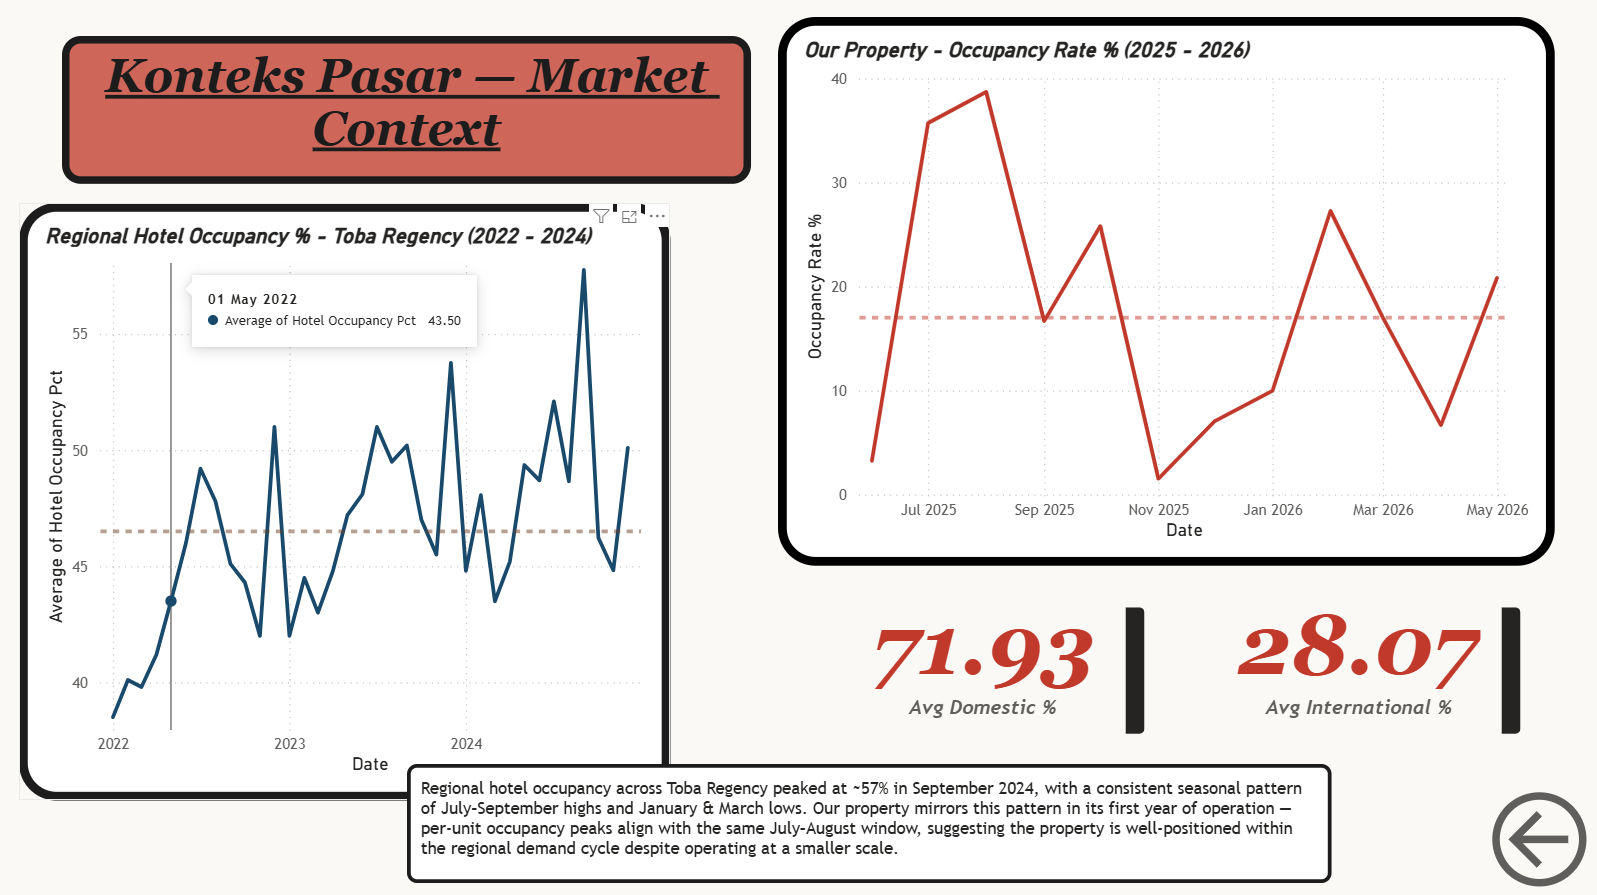

Layout of this report page (visuals, bound fields, positions):
{"tool":"powerbi","page":{"name":"Market Context","canvas":[1280,720],"ordinal":2},"visuals":[{"type":"lineChart","title":"Regional Hotel Occupancy % - Toba Regency (2022 - 2024)","fields":{"Category":["Tourism_Arrivals.Date"],"Y":["Avg(Tourism_Arrivals.Hotel Occupancy Pct)"]},"box":[16.7,166.7,520,476.7],"z":0},{"type":"lineChart","title":"Our Property - Occupancy Rate % (2025 - 2026)","fields":{"Category":["Property_Data.Date"],"Y":["Property_Data.Occupancy Rate %"]},"box":[622.7,18.2,620,438.2],"z":1000},{"type":"textbox","box":[326.5,614.6,738.4,95],"z":2000},{"type":"cardVisual","fields":{"Data":["Property_Data.Avg Domestic %"]},"box":[640,472.2,292,135.6],"z":3000},{"type":"cardVisual","fields":{"Data":["Property_Data.Avg International %"]},"box":[940,472.2,292.2,135.6],"z":4000},{"type":"textbox","box":[51.1,33.3,550,117.8],"z":5000},{"type":"actionButton","box":[1185,630,95,90],"z":6000}]}

Visuals, with their boxes in screenshot pixels (x1, y1, x2, y2), scaled from the page's 1280x720 canvas onto the 1597x895 screenshot:
"Regional Hotel Occupancy % - Toba Regency (2022 - 2024)" lineChart: [21, 207, 670, 800]
"Our Property - Occupancy Rate % (2025 - 2026)" lineChart: [777, 23, 1550, 567]
textbox: [407, 764, 1329, 882]
cardVisual - Property_Data.Avg Domestic %: [798, 587, 1163, 756]
cardVisual - Property_Data.Avg International %: [1173, 587, 1537, 756]
textbox: [64, 41, 750, 188]
actionButton: [1478, 783, 1596, 894]
